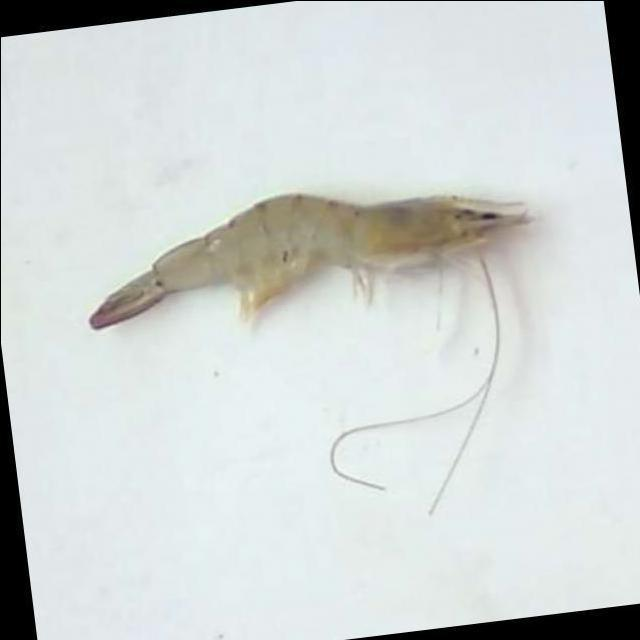shrimp: (88, 193, 529, 329)
